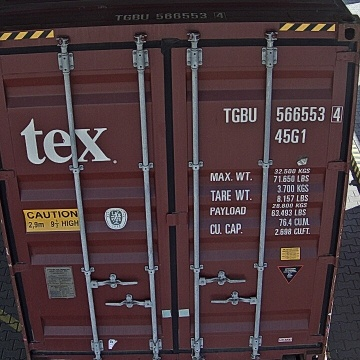serial_id: (224, 106, 342, 122)
